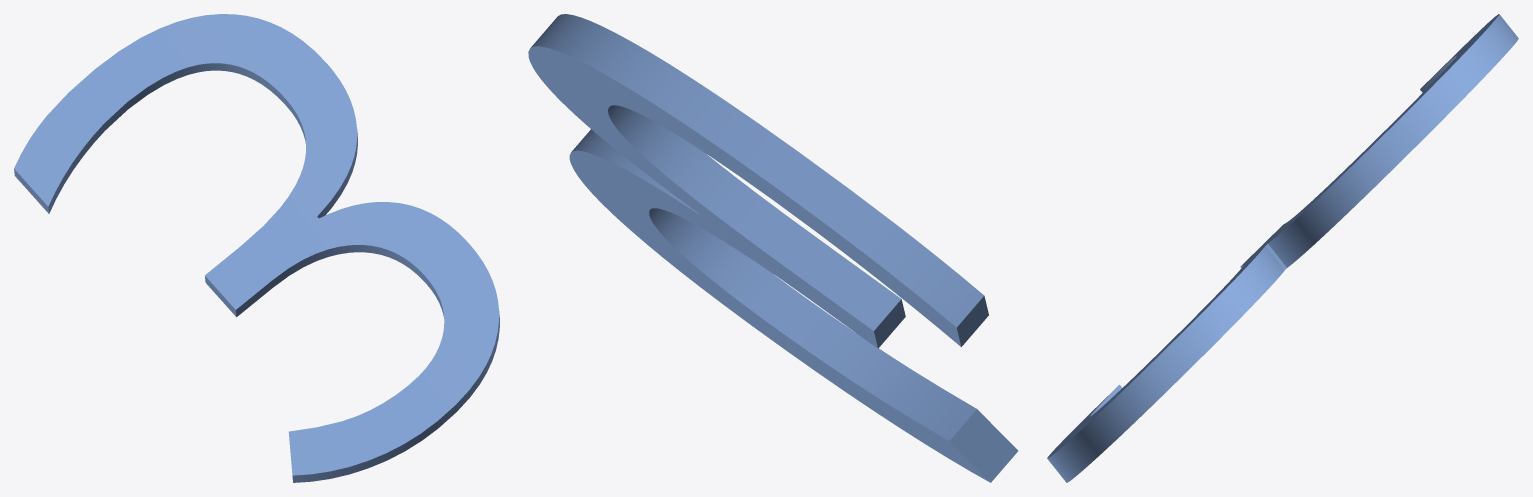
File: New_Number_3.gltf
3 views of the same model, side by side, from view 1: azimuth 30°, elevation 25°; view 2: azimuth 150°, elevation 25°; view 3: azimuth 270°, elevation 25° (orthographic). The views are drawn at different scales.
Visible parts, largest first — view 1: Part 399; view 2: Part 399; view 3: Part 399.
Boxes of the visible parts, x1=… form: Part 399: x1=14, y1=14, x2=499, y2=482; Part 399: x1=528, y1=14, x2=1018, y2=482; Part 399: x1=1047, y1=14, x2=1518, y2=482.
Size of the model in its own units: 0.00431 by 0.00402 by 0.00387.
